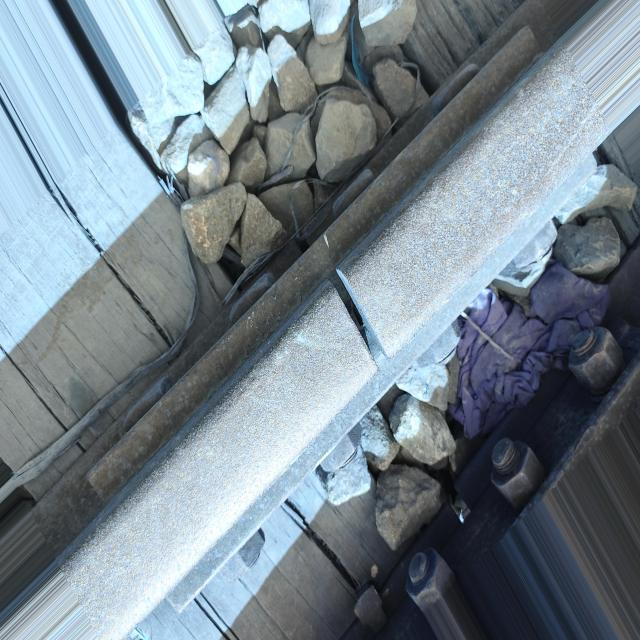crack: (301, 250, 411, 410)
